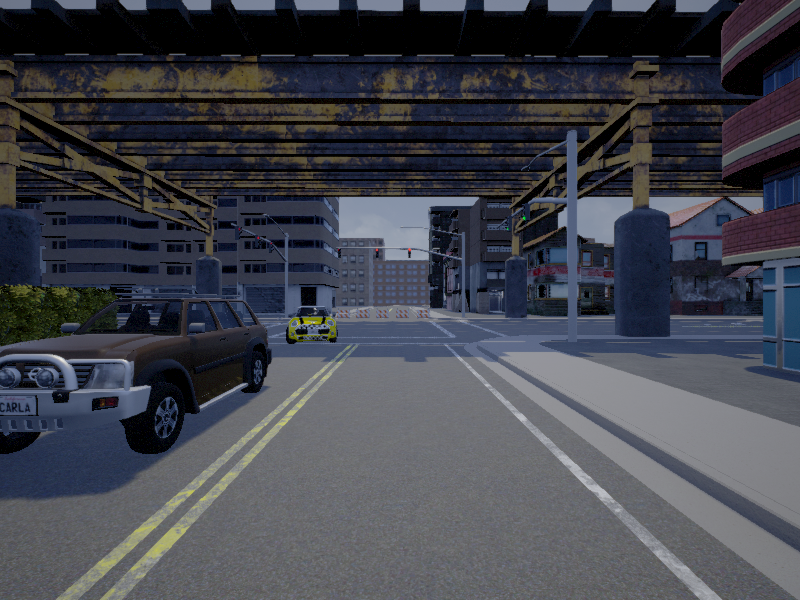Benign: (1, 301, 272, 455), (287, 306, 340, 343)
